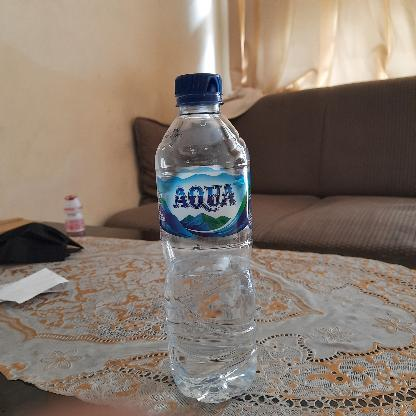Plastic Bottle: (154, 69, 262, 402)
